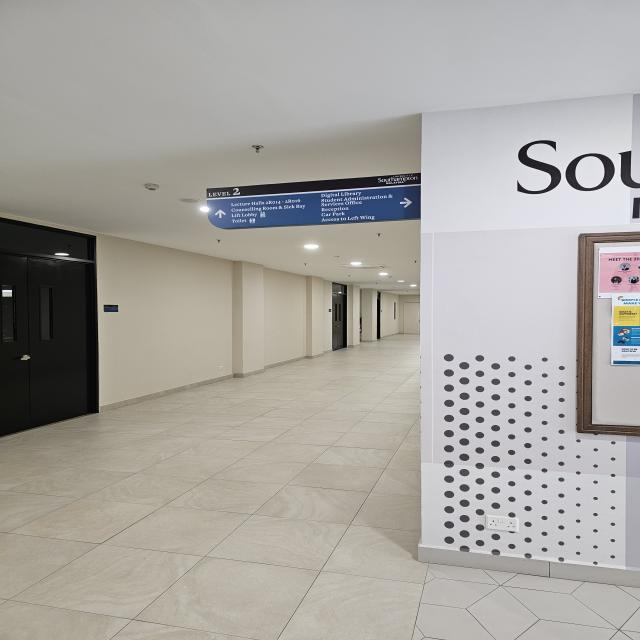door: (0, 256, 106, 428)
footpath: (13, 416, 419, 638)
